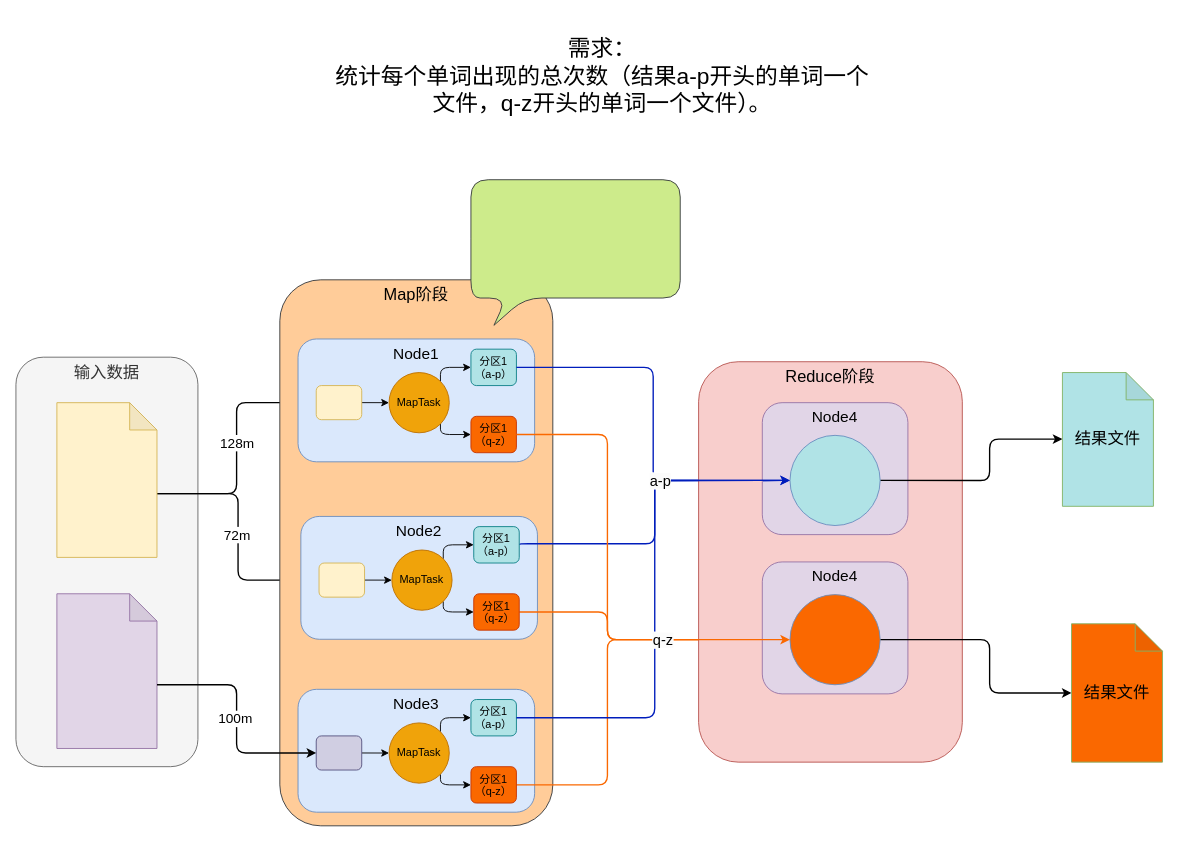
Some shapes in this 1178 by 842 pixel diagram are drawn without their labels. The shapes that lost their labels are listed below. From the top down, each one's centre as x and y in pixels, then its label:
At [575,252]: "1、读取数据，按行处理。 2、按空格切分行内单词。 3、KV键值对封装数据。 4、将数据中的单词按单词首字母分成2个分区溢写到磁盘".
At [338,402]: "block1 128m".
At [106,479]: "Hadoop Spark Hive Hbase Spark ....".
At [834,480]: "Reduce Task (a-p)".
At [341,579]: "block1 72m".
At [834,639]: "Reduce Task (q-z)".
At [106,670]: "Java Juc Spring Redis JVM Docker ....".
At [338,752]: "block1 100m".
